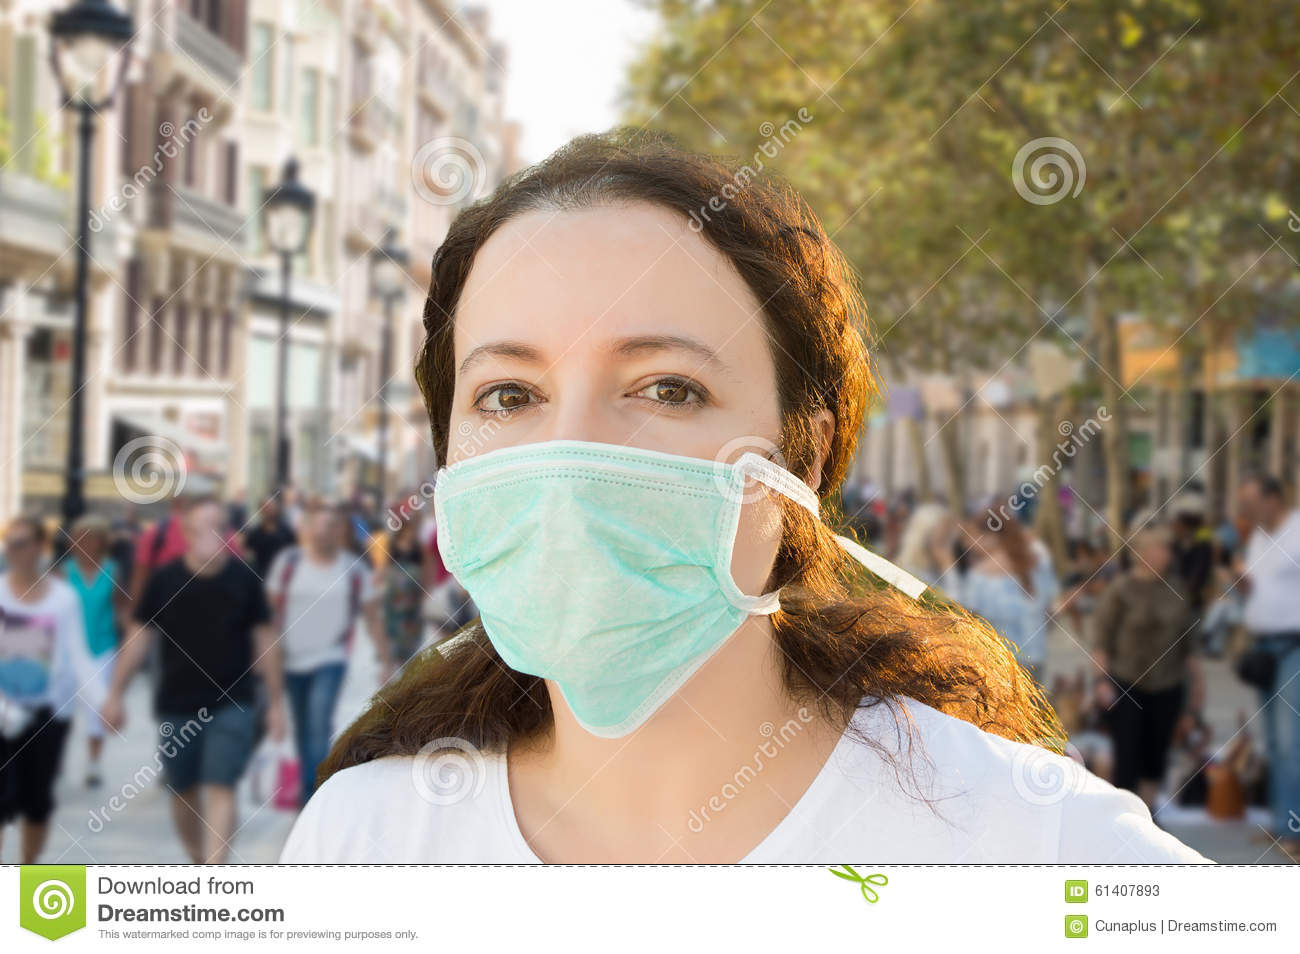mask: (436, 442, 760, 740)
